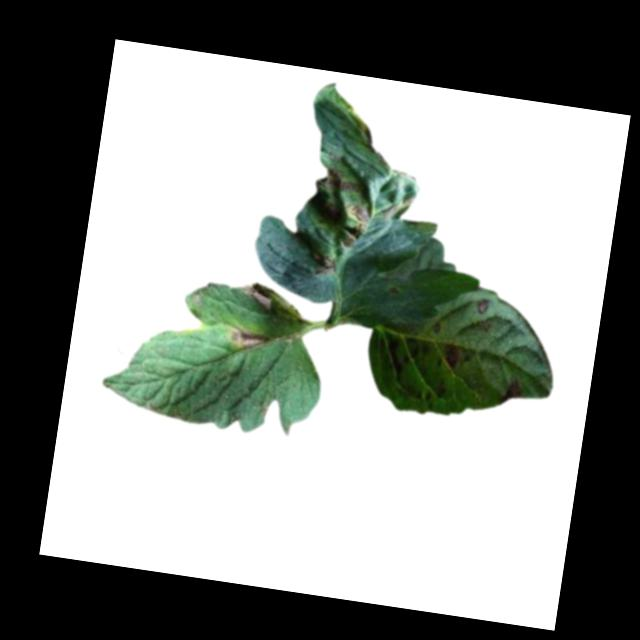Early_blight: (339, 203, 372, 250), (315, 164, 360, 195), (227, 323, 268, 352), (240, 280, 278, 311), (309, 254, 341, 277), (441, 340, 463, 370), (501, 375, 522, 404), (473, 298, 491, 316)
